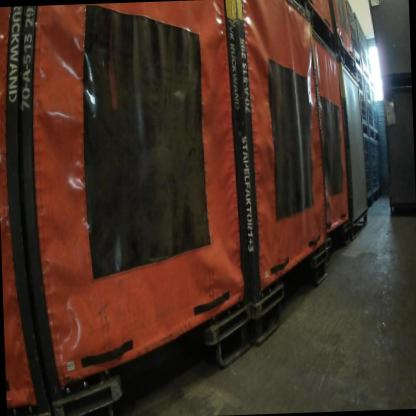stillage: (348, 63, 367, 132), (344, 0, 363, 68), (360, 129, 374, 212), (352, 10, 369, 74), (364, 70, 376, 136), (363, 29, 377, 80), (368, 133, 378, 202), (375, 140, 384, 191), (371, 83, 378, 135)
